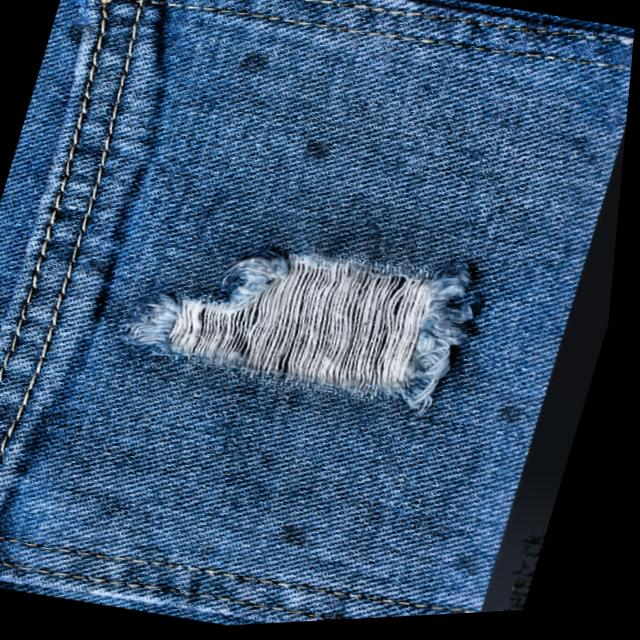Hole: (76, 175, 534, 458)
